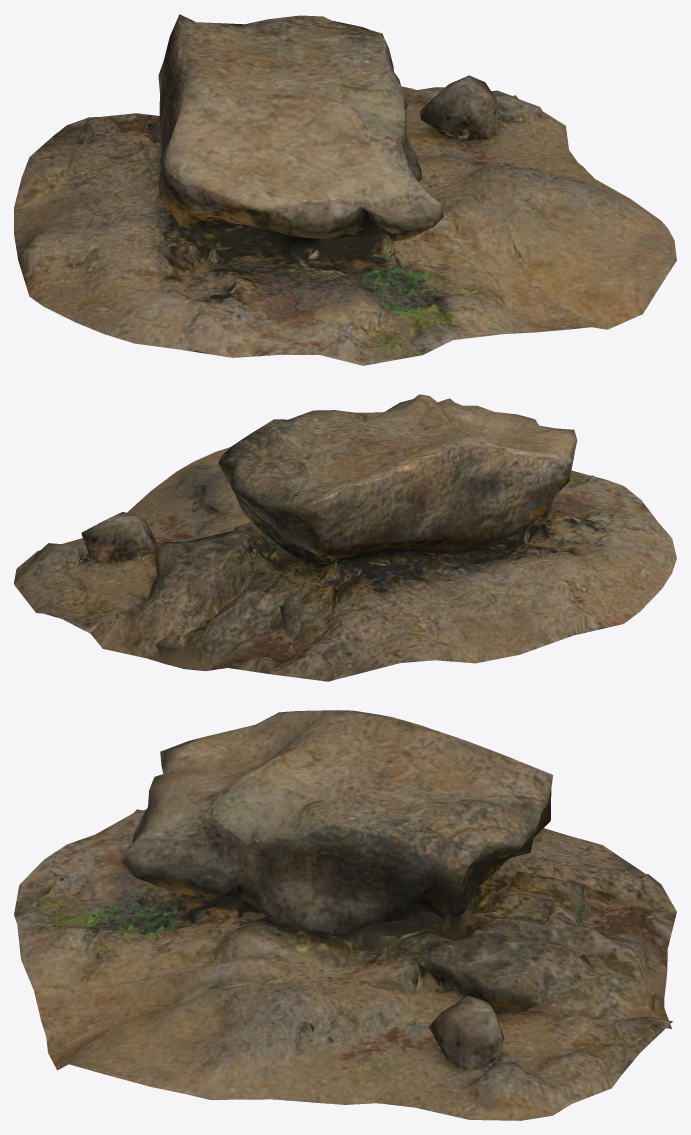
The picture shows the model from 3 angles, top to bottom: view 1: azimuth 30°, elevation 25°; view 2: azimuth 150°, elevation 25°; view 3: azimuth 270°, elevation 25°; orthographic projection. The views are drawn at different scales.
Parts seen in each view (by area): view 1: coast_rocks_05_lod1; view 2: coast_rocks_05_lod1; view 3: coast_rocks_05_lod1.
Part boxes in pixels (<box>): coast_rocks_05_lod1: <box>14,14,676,365</box>; coast_rocks_05_lod1: <box>14,394,676,681</box>; coast_rocks_05_lod1: <box>14,710,676,1120</box>.
Size of the model in its own units: 4.03 by 1.31 by 3.75.
Materials: 1 (1 with a texture image).
